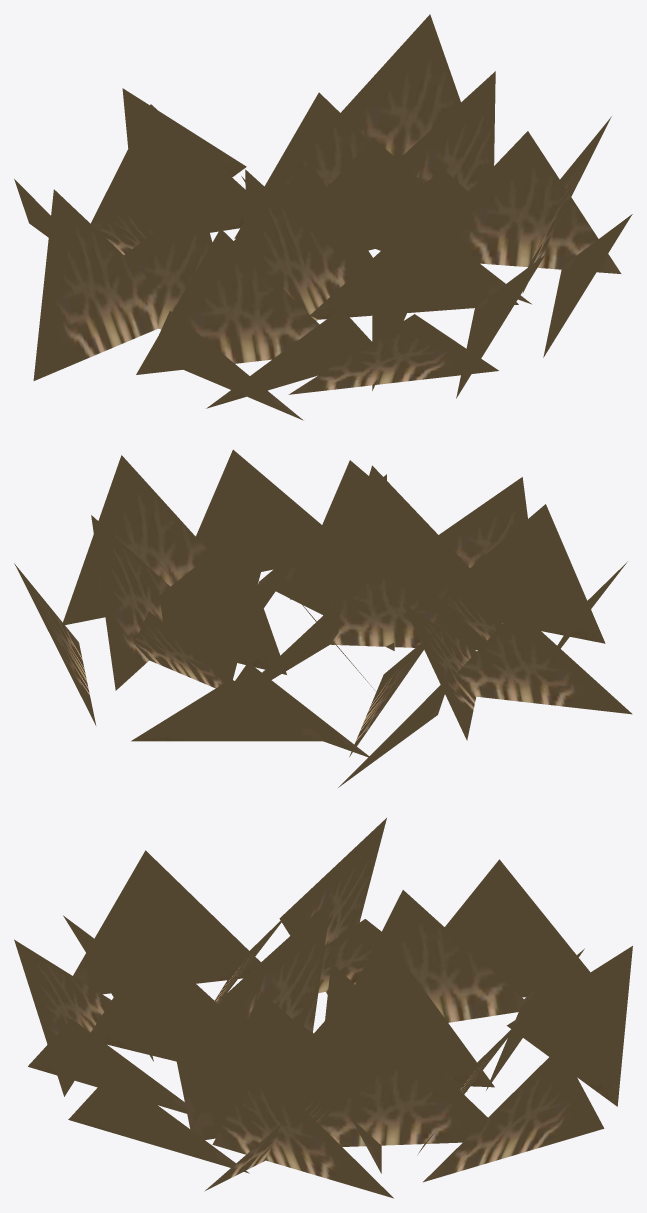
Rendered from dec_dry_grass_04_51913.glb.
3 renders of one model, top to bottom at view 1: azimuth 30°, elevation 25°; view 2: azimuth 150°, elevation 25°; view 3: azimuth 270°, elevation 25°, orthographic. The views are drawn at different scales.
Parts seen in each view (by area): view 1: dry_grass_04_mesh; view 2: dry_grass_04_mesh; view 3: dry_grass_04_mesh.
Boxes of the visible parts, left/top/right/bottom form: dry_grass_04_mesh: left=14, top=14, right=632, bottom=420; dry_grass_04_mesh: left=14, top=449, right=632, bottom=787; dry_grass_04_mesh: left=14, top=818, right=632, bottom=1198.
Size of the model in its own units: 1.14 by 0.2607 by 1.06.
1 material, 1 textured.
